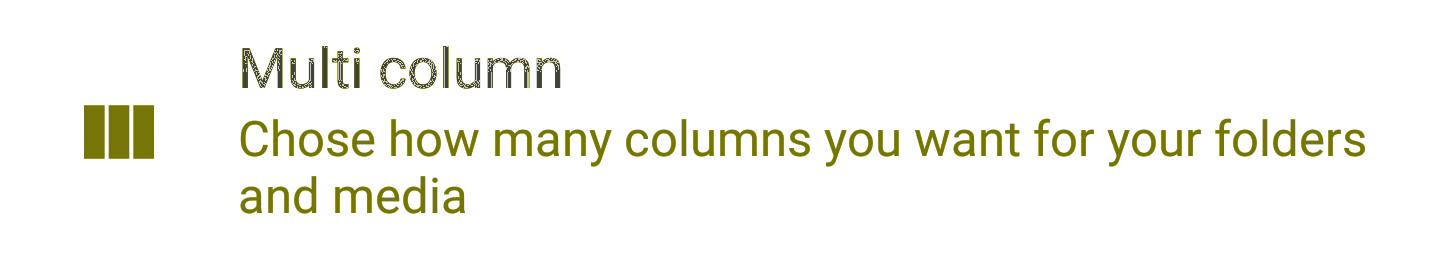CheckedTextView: (1, 1, 1439, 264)
